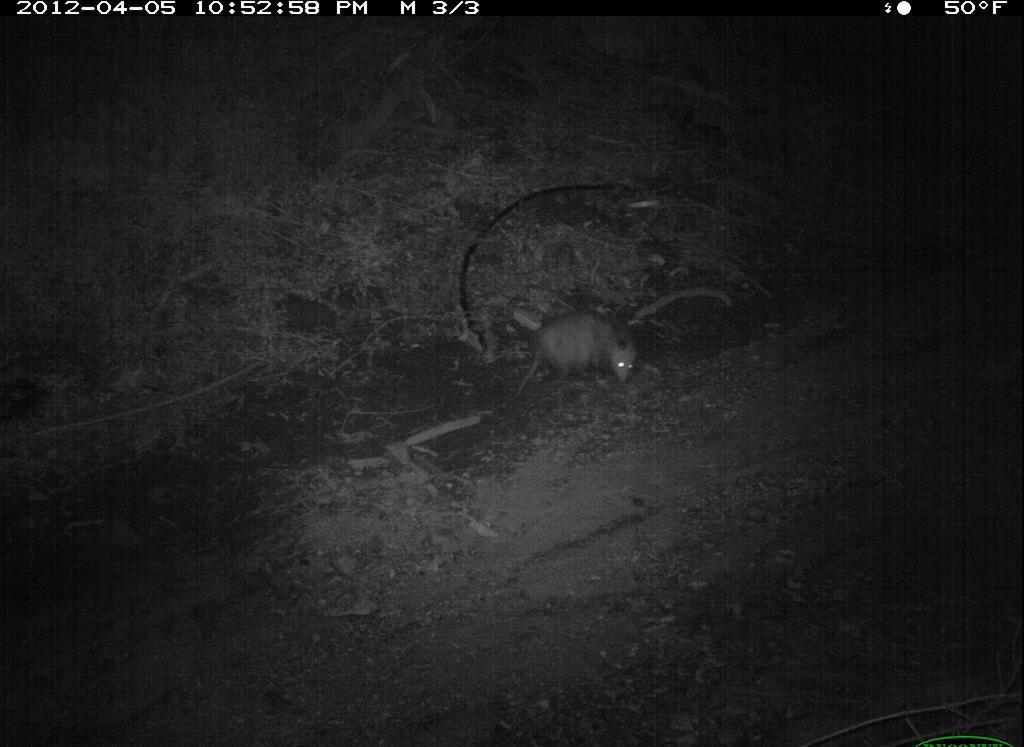opossum: (514, 305, 648, 411)
